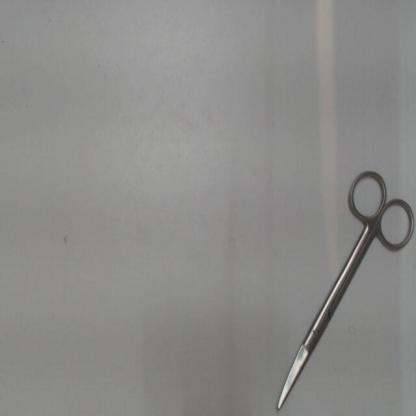Curved Mayo Scissors: (270, 162, 415, 412)
